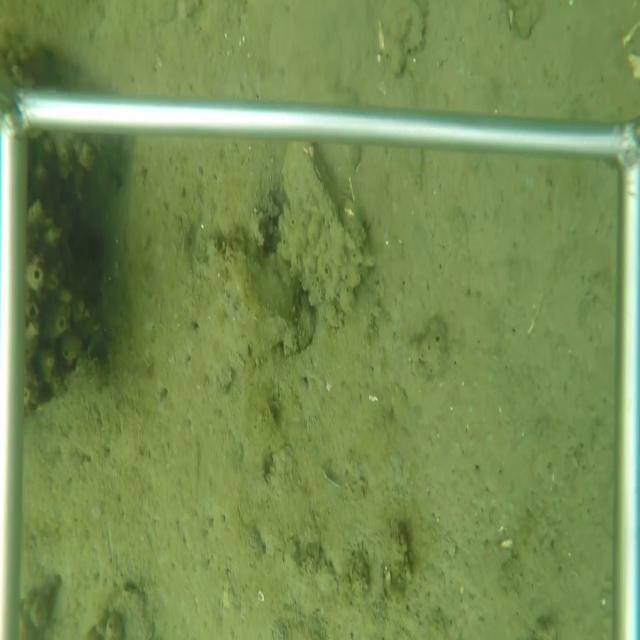Oyster-Closed: (272, 143, 374, 335)
